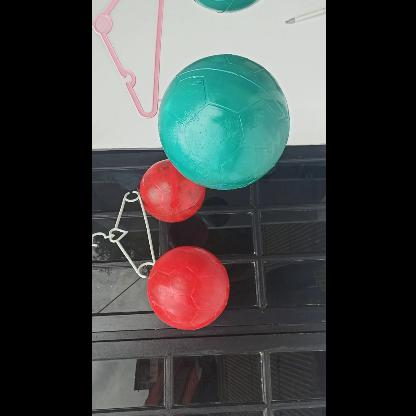red_ball: (146, 248, 228, 330)
